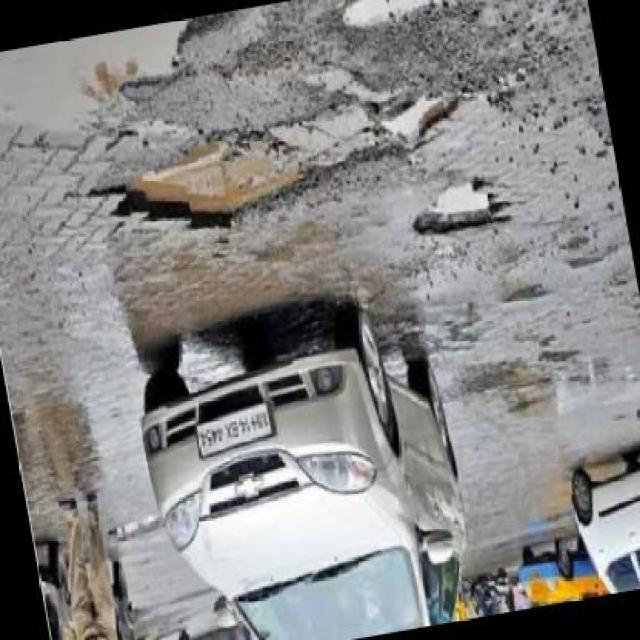pothole: (83, 71, 479, 258), (2, 8, 276, 155), (407, 168, 519, 248), (339, 0, 459, 35)
